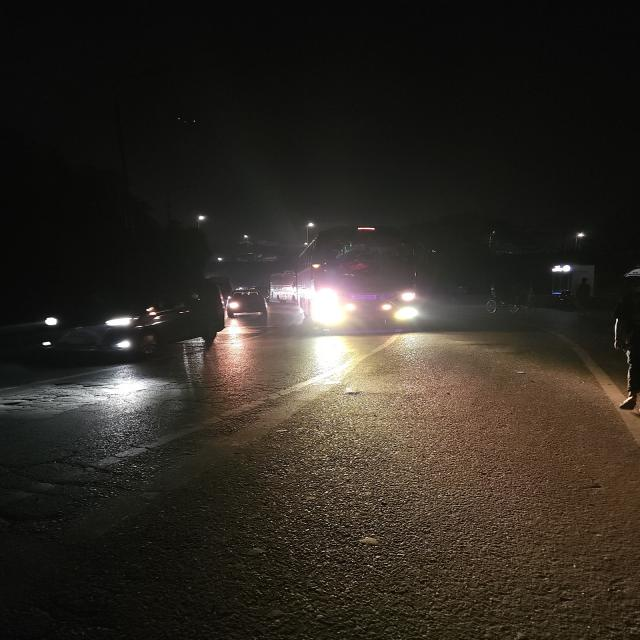bus: (290, 214, 426, 334)
car: (18, 303, 205, 365), (225, 286, 272, 320)
